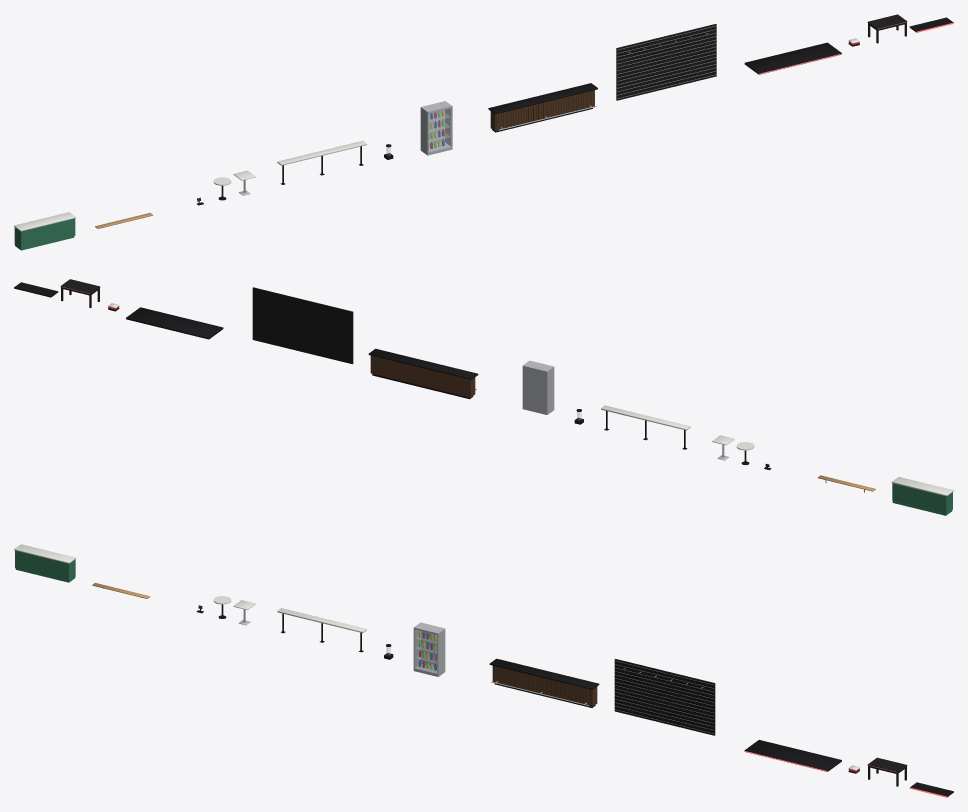
File: CafeShop_01.glb
3 renders of one model, top to bottom at view 1: azimuth 30°, elevation 25°; view 2: azimuth 150°, elevation 25°; view 3: azimuth 330°, elevation 25°, orthographic.
Parts seen in each view (by area): view 1: Slatwall_Panel, SBarCounter_Body, Slatwall_Metal, DrinksFridge_Body, Podium_Base, CounterUnit_Body, DrinksFridge_Glass, SBarCounter_Top, DisplayTable_Body, WindowBar_Top; view 2: Slatwall_Panel, SBarCounter_Body, DrinksFridge_Body, Podium_Base, CounterUnit_Body, SBarCounter_Top, DisplayTable_Body, WindowBar_Top; view 3: Slatwall_Panel, SBarCounter_Body, Slatwall_Metal, DrinksFridge_Body, Podium_Base, CounterUnit_Body, DrinksFridge_Glass, SBarCounter_Top.
Part boxes in pixels (x1,y1,x2,y2): Slatwall_Panel: (616, 24, 716, 100); SBarCounter_Body: (490, 90, 594, 131); Slatwall_Metal: (617, 25, 716, 98); DrinksFridge_Body: (420, 101, 452, 155); Podium_Base: (744, 42, 841, 74); CounterUnit_Body: (14, 218, 75, 250); DrinksFridge_Glass: (428, 108, 451, 152); SBarCounter_Top: (488, 83, 597, 114); DisplayTable_Body: (867, 14, 907, 43); WindowBar_Top: (277, 140, 366, 165); Slatwall_Panel: (252, 287, 353, 364); SBarCounter_Body: (370, 355, 475, 397); DrinksFridge_Body: (522, 360, 554, 414); Podium_Base: (126, 307, 223, 339); CounterUnit_Body: (892, 483, 952, 515); SBarCounter_Top: (368, 348, 478, 379); DisplayTable_Body: (60, 279, 100, 308); WindowBar_Top: (601, 405, 690, 430); Slatwall_Panel: (614, 659, 715, 735); SBarCounter_Body: (492, 665, 597, 706); Slatwall_Metal: (614, 660, 714, 733); DrinksFridge_Body: (413, 622, 445, 676); Podium_Base: (744, 740, 841, 771); CounterUnit_Body: (15, 550, 75, 582); DrinksFridge_Glass: (414, 630, 437, 673); SBarCounter_Top: (489, 658, 599, 689).
Size of the model in its own units: 168 by 9.5 by 4.7.
